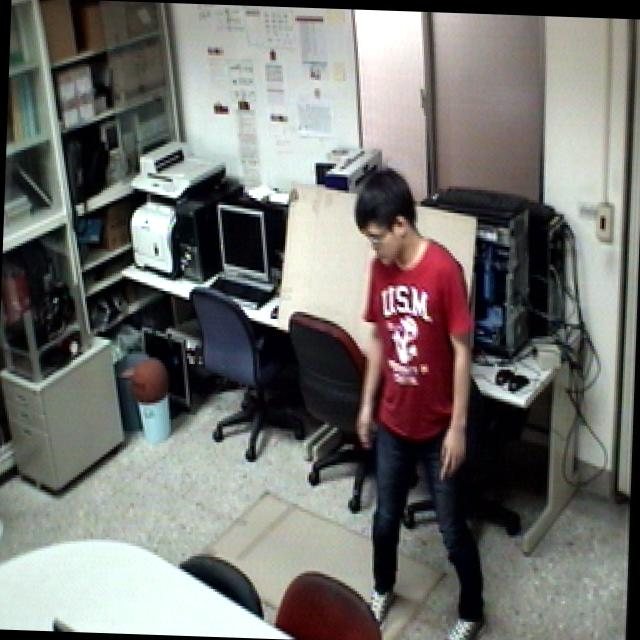stand: (331, 163, 504, 640)
